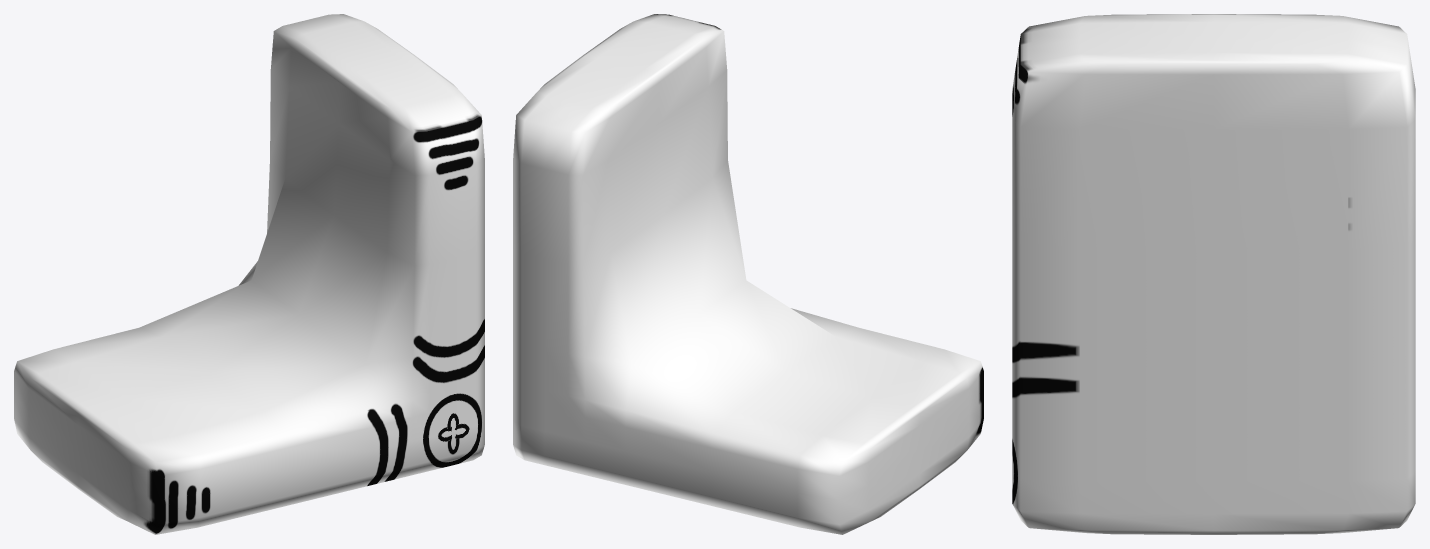
The model's file is BoomerangPlatform.fbx.
The picture shows the model from 3 angles, left to right: view 1: azimuth 30°, elevation 25°; view 2: azimuth 150°, elevation 25°; view 3: azimuth 270°, elevation 25°; orthographic projection. The views are drawn at different scales.
Visible parts, largest first — view 1: Cube; view 2: Cube; view 3: Cube.
Part boxes in pixels (x1=…): Cube: x1=14, y1=14, x2=484, y2=534; Cube: x1=513, y1=14, x2=983, y2=534; Cube: x1=1012, y1=14, x2=1415, y2=534.
Size of the model in its own units: 260 by 260 by 200.
